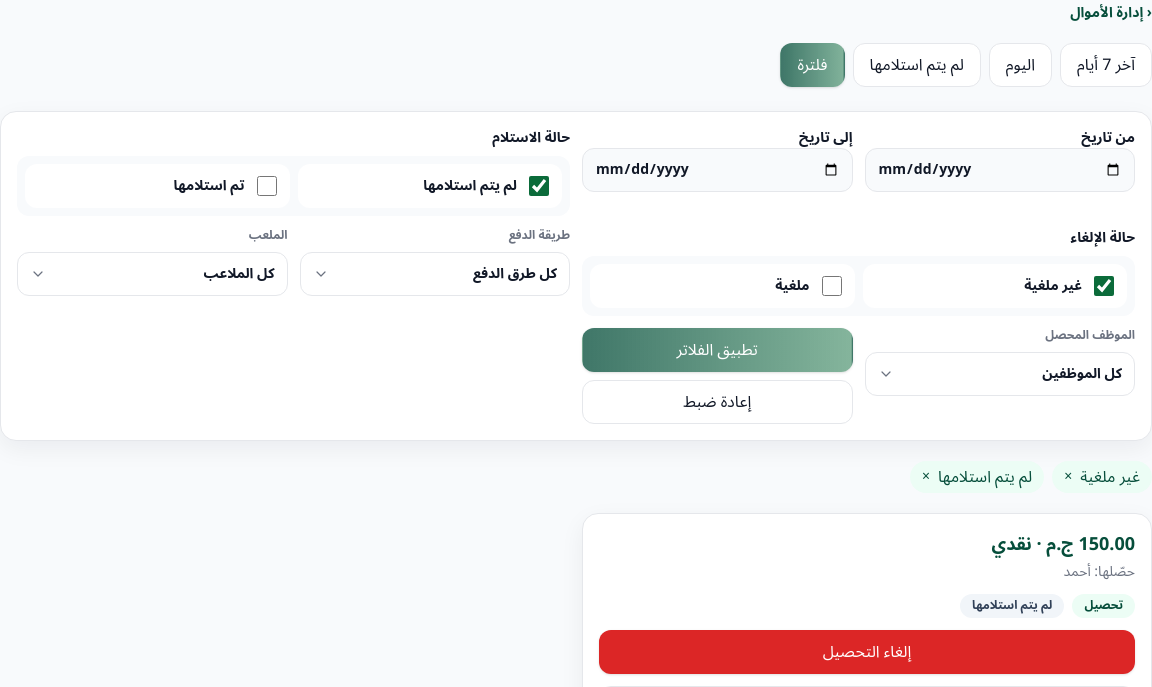
Test: TransactionsListPage › cancels an active payment and reloads transactions
Click the button "إلغاء التحصيل": (867,652) [599, 630, 1135, 674]
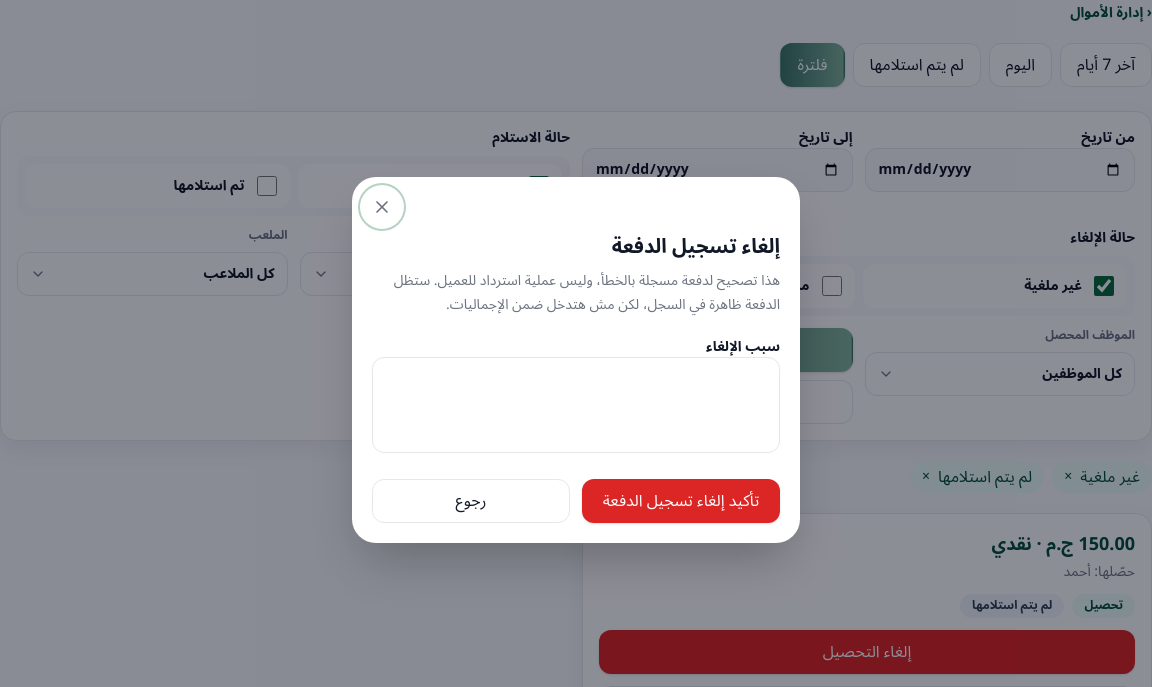
Click the button "تأكيد إلغاء تسجيل الدفعة": (681,501) [582, 479, 780, 523]
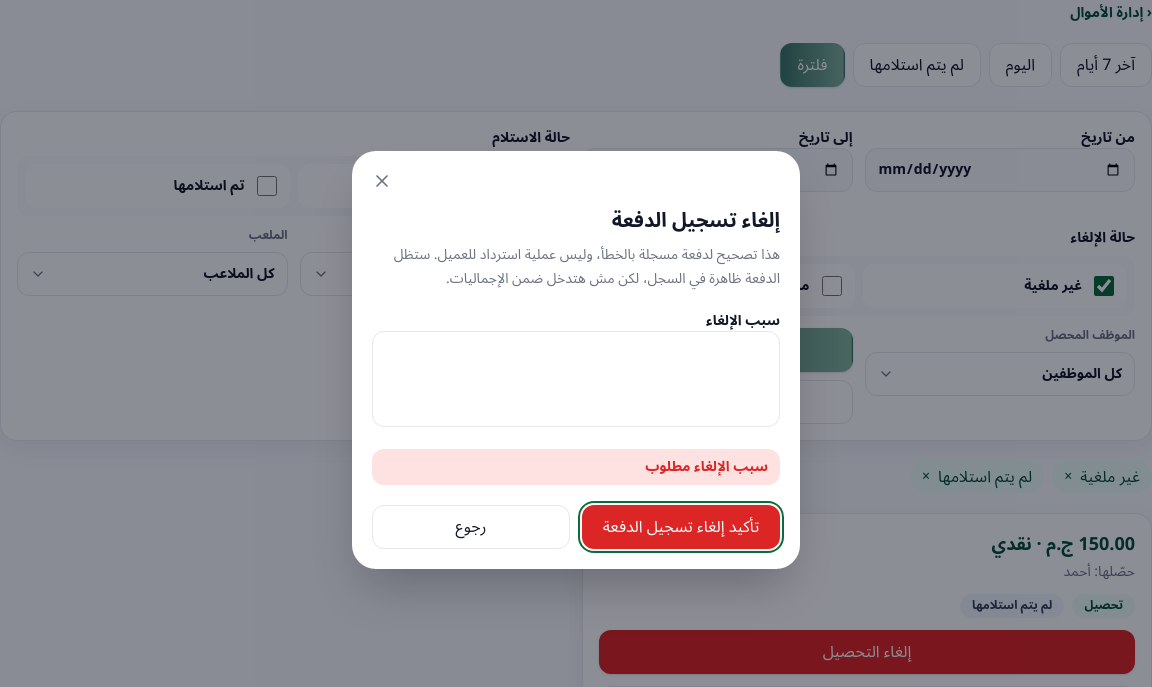
Expected: the text "سبب الإلغاء مطلوب" is shown, [372, 449, 780, 485]
In the text box labelled "سبب الإلغاء": (576,379) [372, 331, 780, 427], type "مبلغ خاطئ"
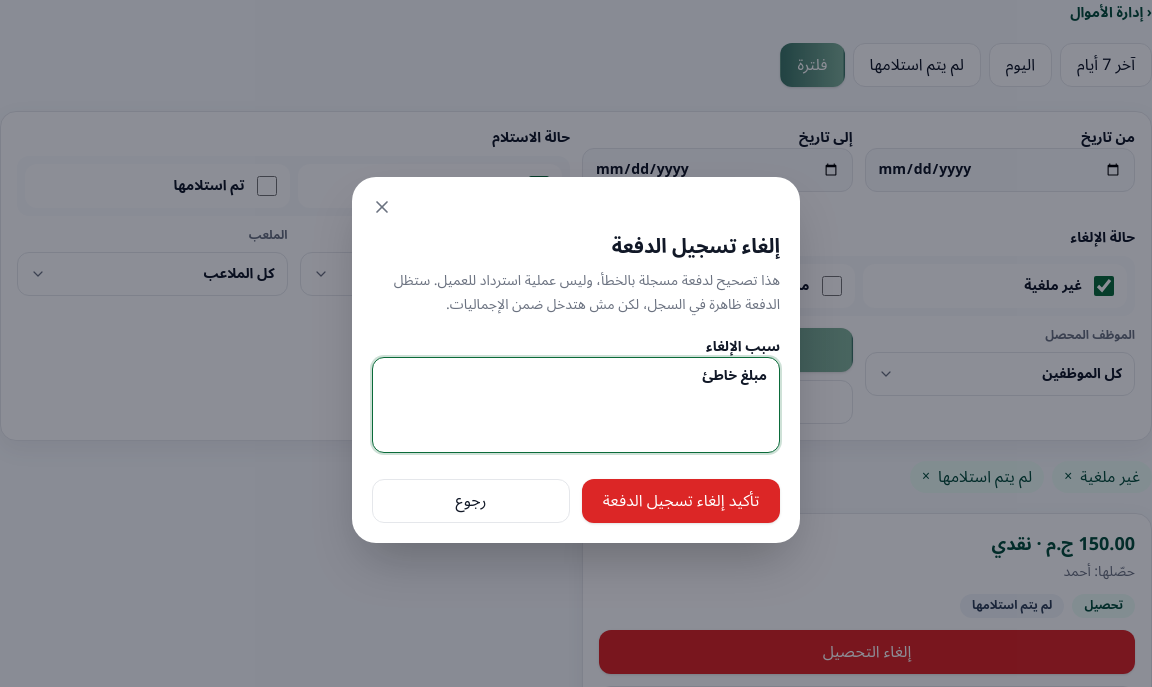
Click the button "تأكيد إلغاء تسجيل الدفعة": (681,501) [582, 479, 780, 523]
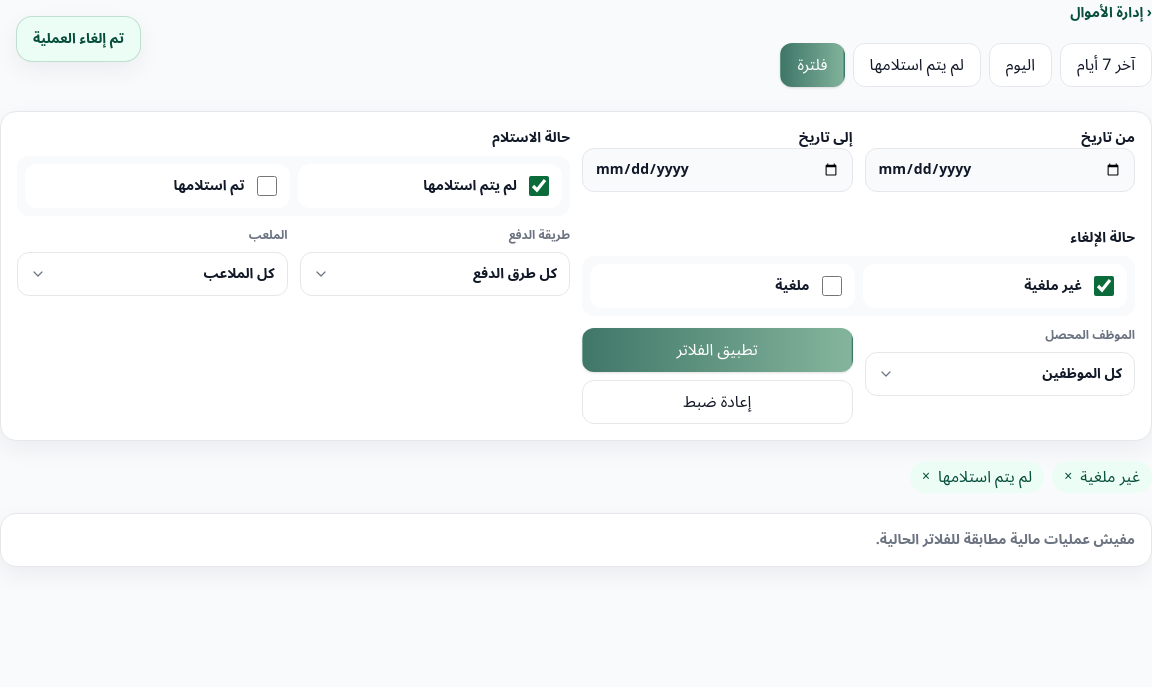
Expected: the text "تم إلغاء العملية" is shown, [16, 16, 141, 62]
